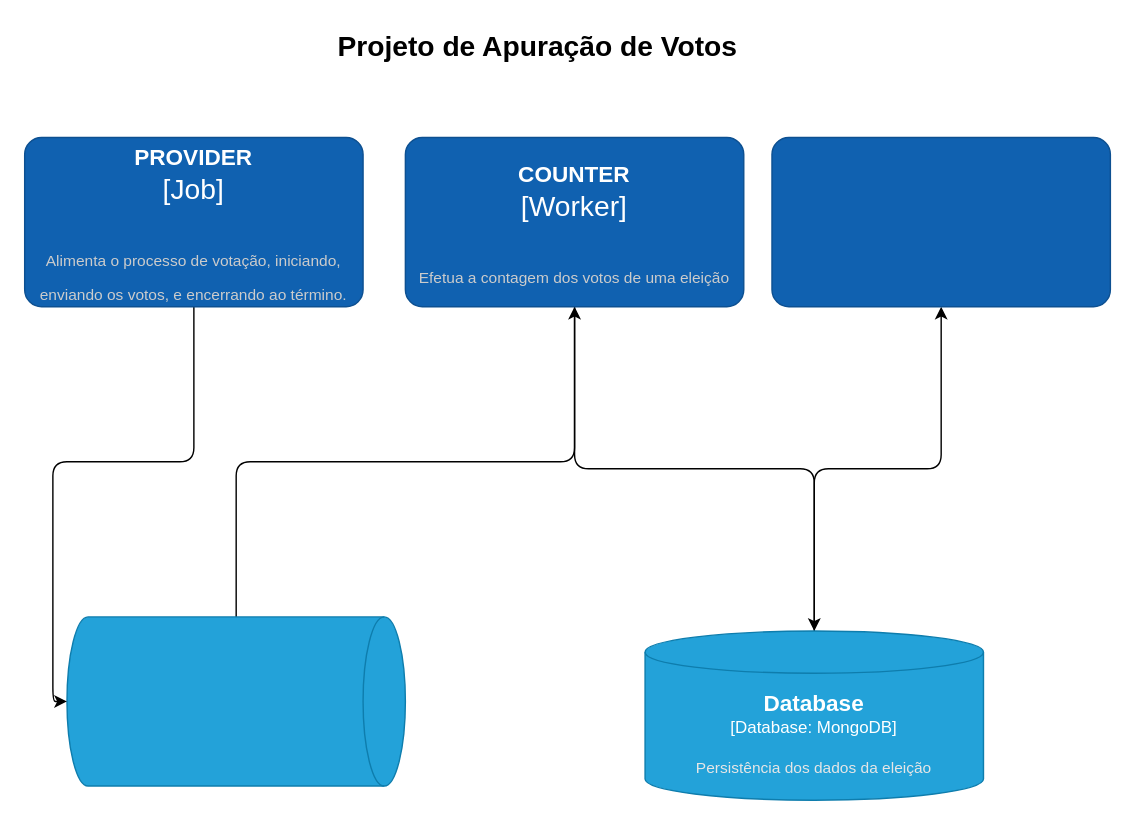
Some shapes in this 1135 by 825 pixel diagram are drawn without their labels. The shapes that lost their labels are listed below. From the top down, each one's centre as x and y in pixels, then its label:
(940,221): Front End [API Web] Exposição dos dados da eleição
(235,700): Queue [Fila de processamento: Azure Service Bus] Transita os eventos da eleição
